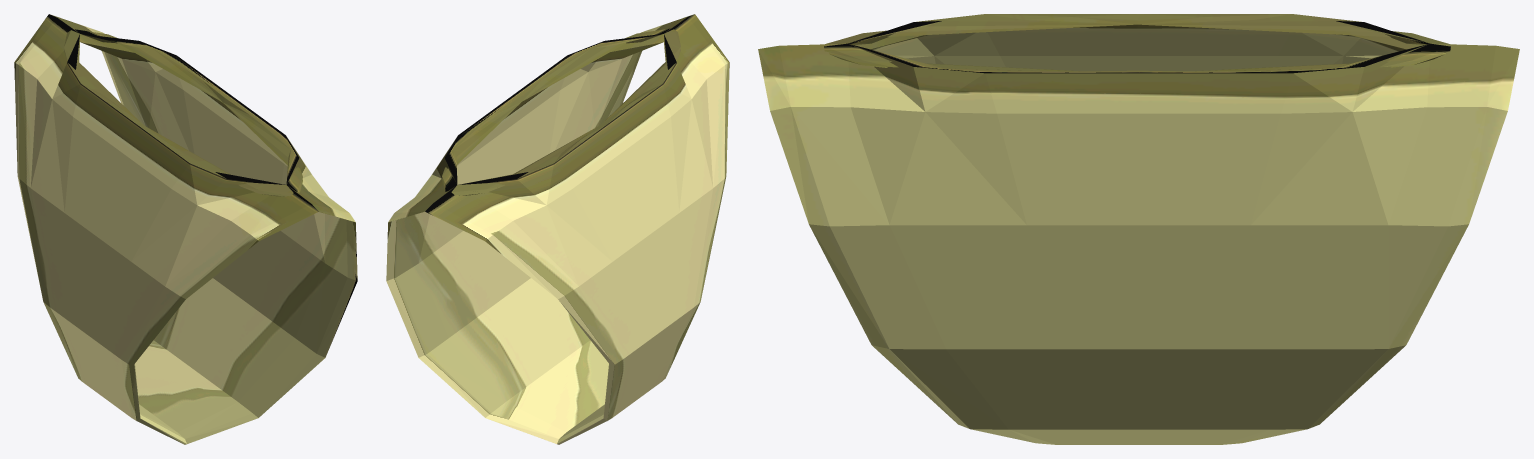
Rendered from undies.glb.
The picture shows the model from 3 angles, left to right: view 1: azimuth 30°, elevation 25°; view 2: azimuth 150°, elevation 25°; view 3: azimuth 270°, elevation 25°; orthographic projection. The views are drawn at different scales.
Parts seen in each view (by area): view 1: undies; view 2: undies; view 3: undies.
Boxes of the visible parts, x1=… form: undies: x1=14, y1=14, x2=357, y2=444; undies: x1=386, y1=14, x2=729, y2=444; undies: x1=758, y1=14, x2=1519, y2=444.
Bounding box in the file's own units: 8.51 × 15.55 × 25.05.
Materials: 1 (1 with a texture image).
